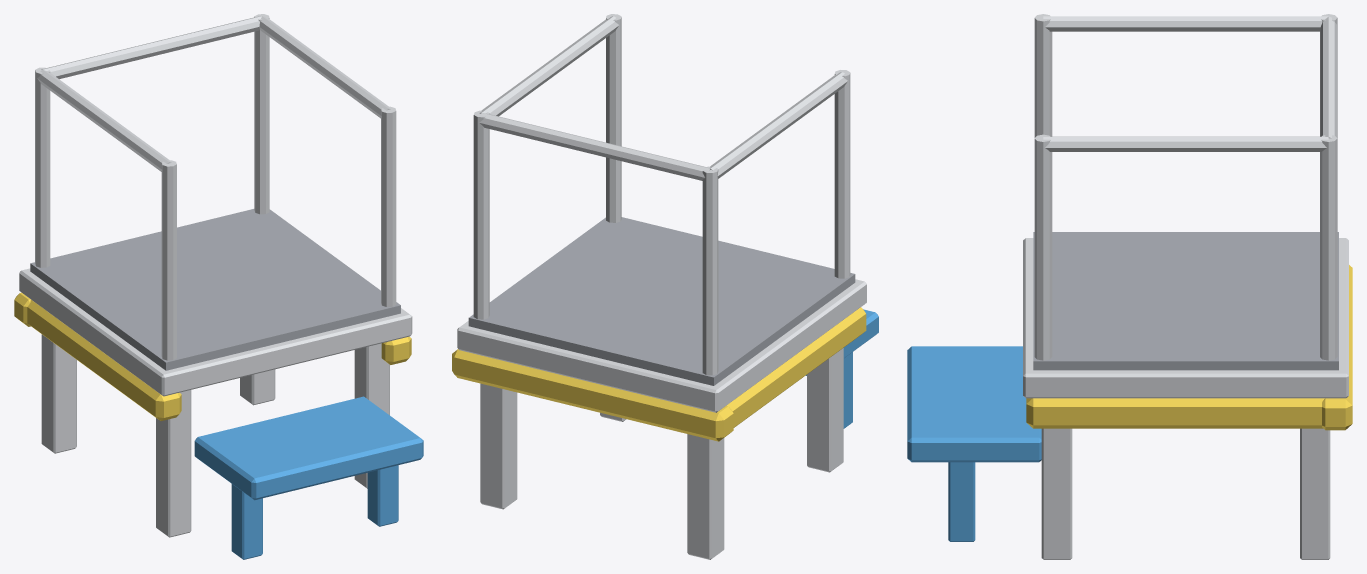
The model's file is trampoline-park-and-soft-play-marshal-stand-a033d5d9__34639.glb.
3 renders of one model, left to right at view 1: azimuth 30°, elevation 25°; view 2: azimuth 150°, elevation 25°; view 3: azimuth 270°, elevation 25°, orthographic. The views are drawn at different scales.
Parts seen in each view (by area): view 1: marshal-stand; view 2: marshal-stand; view 3: marshal-stand.
Boxes of the visible parts, x1=… form: marshal-stand: x1=14, y1=14, x2=423, y2=559; marshal-stand: x1=452, y1=14, x2=878, y2=559; marshal-stand: x1=907, y1=14, x2=1352, y2=559.
Bounding box in the file's own units: 1 × 1.37 × 1.31.
